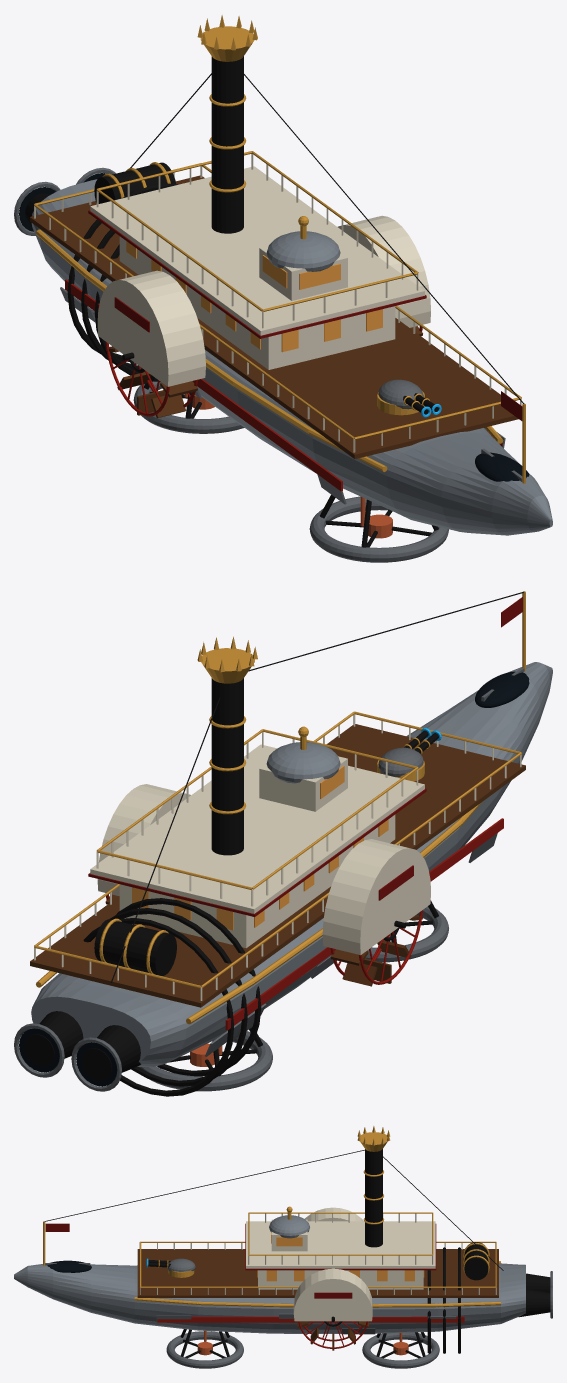
Rendered from frigate.obj.
3 views of the same model, one above another, from view 1: azimuth 30°, elevation 25°; view 2: azimuth 150°, elevation 25°; view 3: azimuth 270°, elevation 25° (orthographic). The views are drawn at different scales.
Visible parts, largest first — view 1: frigate; view 2: frigate; view 3: frigate.
Part boxes in pixels (left/top/right/bottom): frigate: left=14, top=15, right=552, bottom=562; frigate: left=14, top=591, right=552, bottom=1096; frigate: left=14, top=1126, right=552, bottom=1368.
Size of the model in its own units: 127 by 173 by 380.
1 material, 1 textured.
